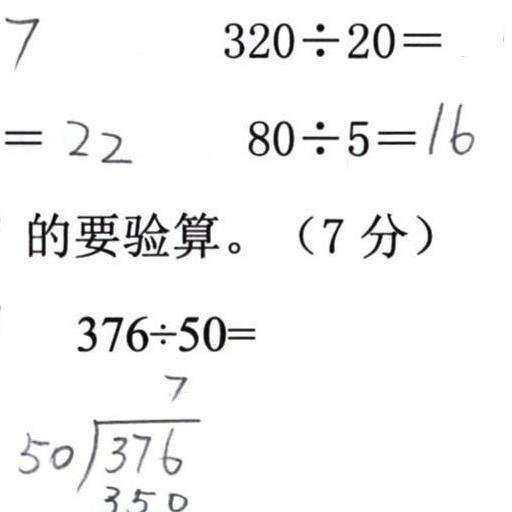ans: (61, 114, 129, 164), (422, 96, 474, 156), (0, 9, 40, 68)
